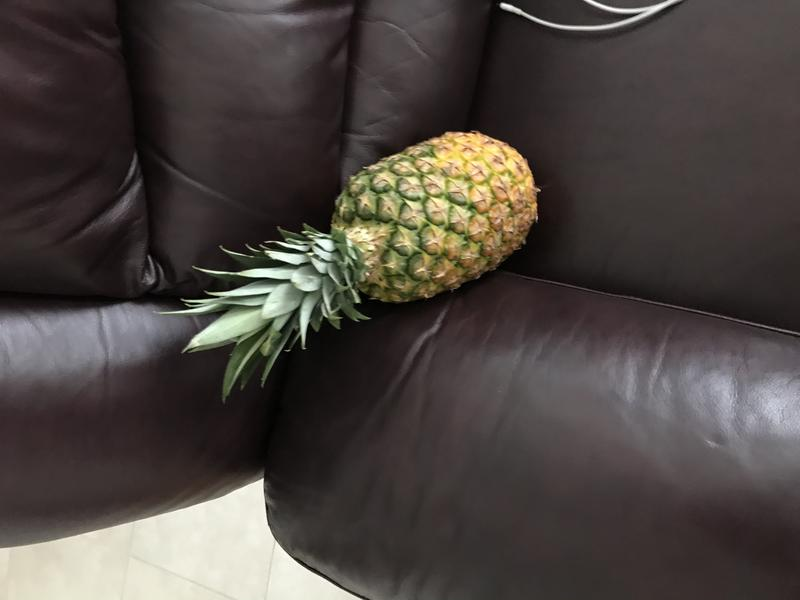pineapple: (154, 116, 556, 406)
